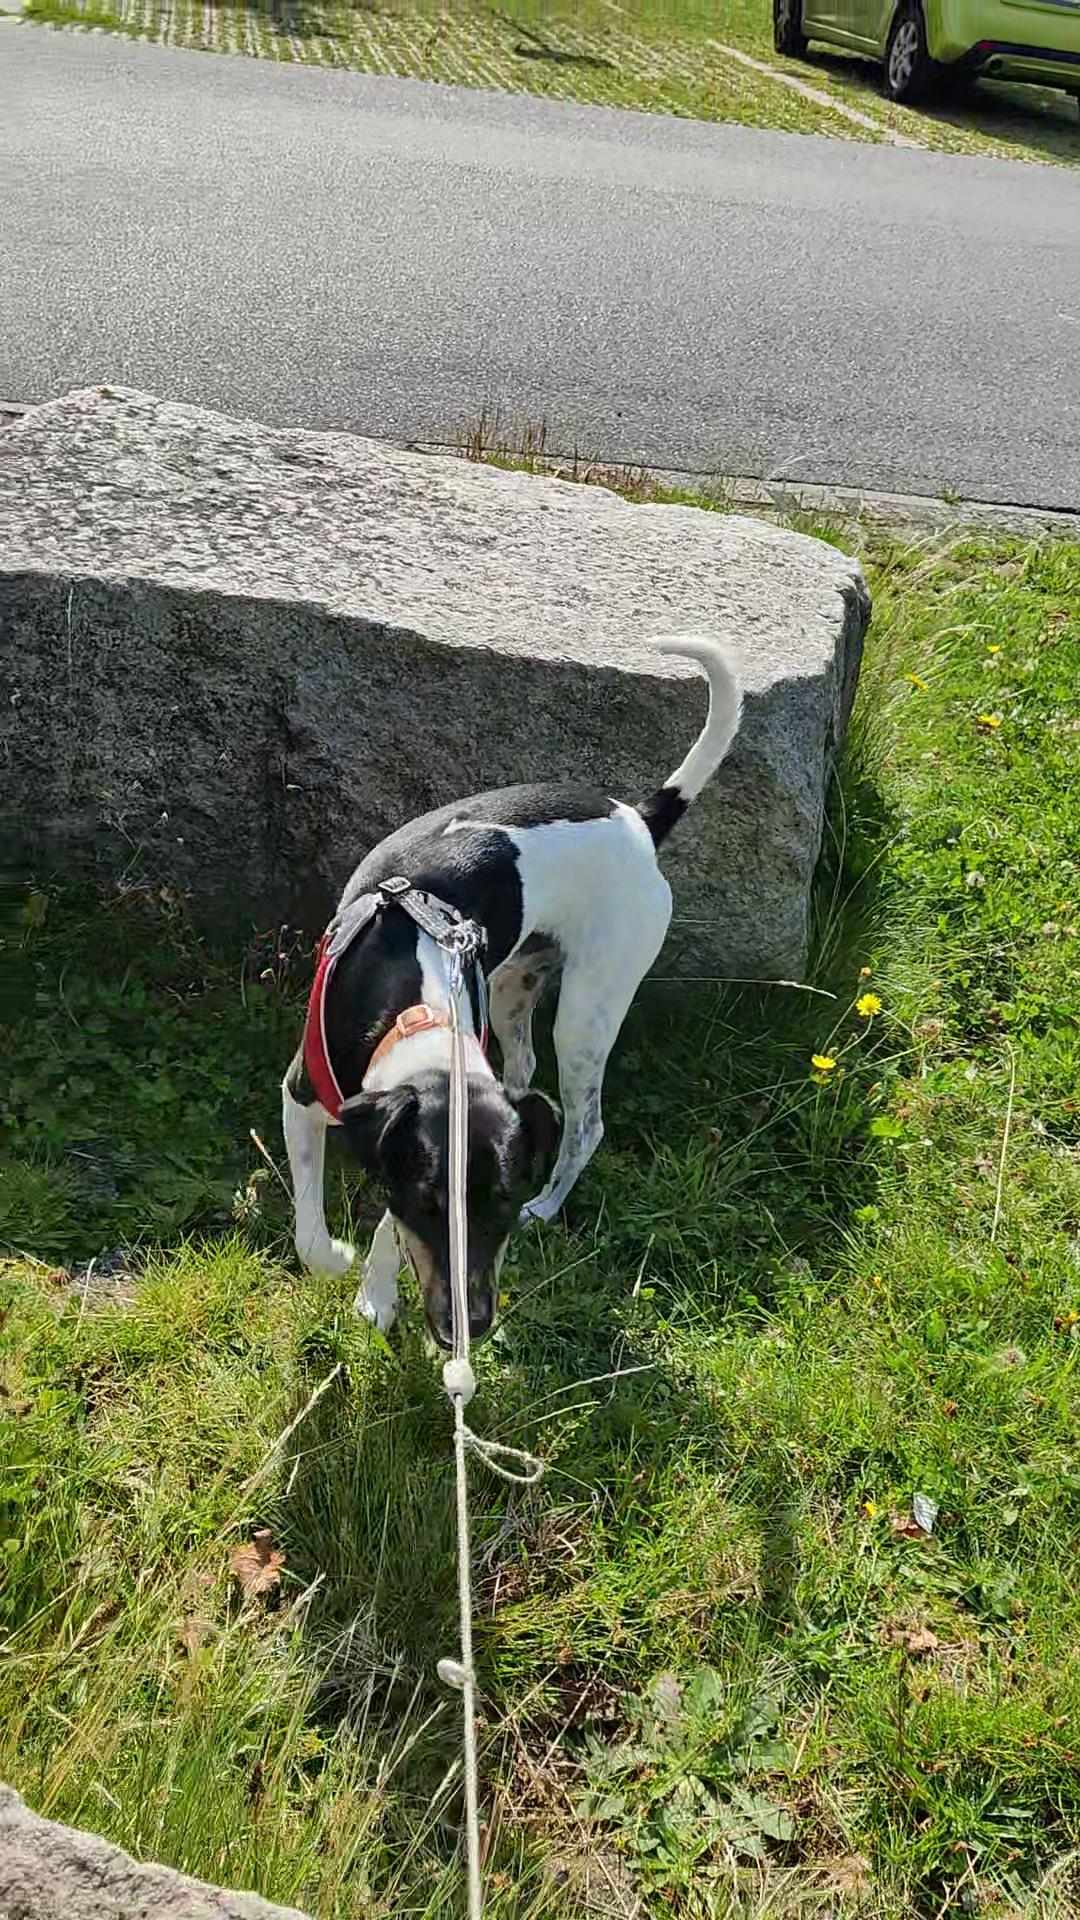Dog: (247, 625, 756, 1369)
